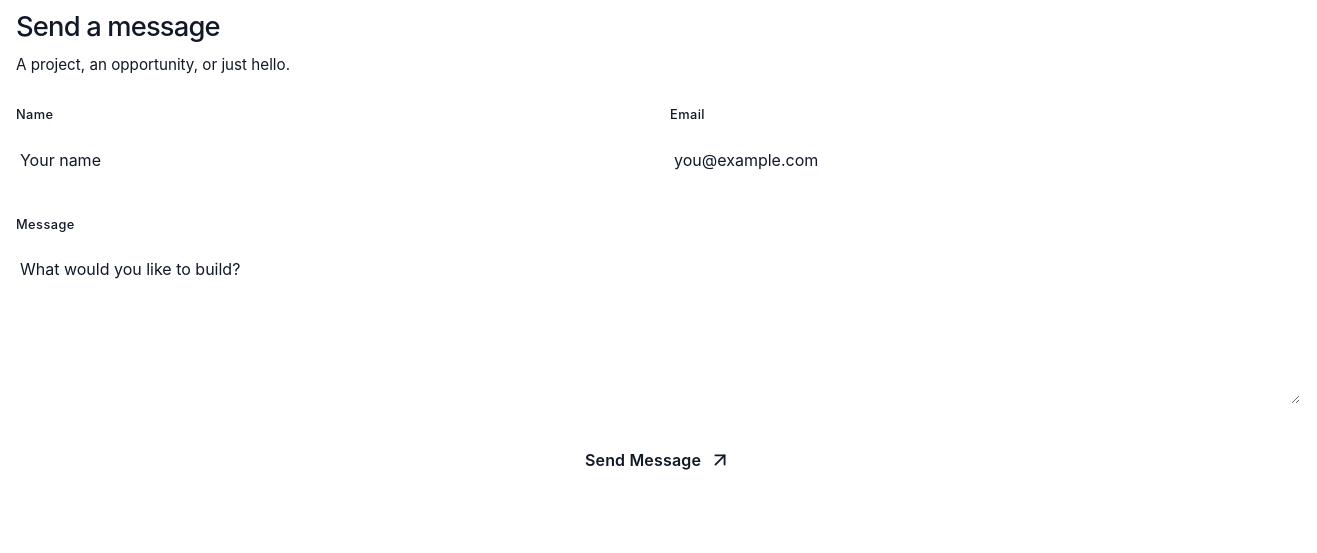
Test: ContactForm › blocks an empty send in its own voice, with the browser's bubbles held back
Click the button "Send Message": (658, 460) [16,432,1300,488]
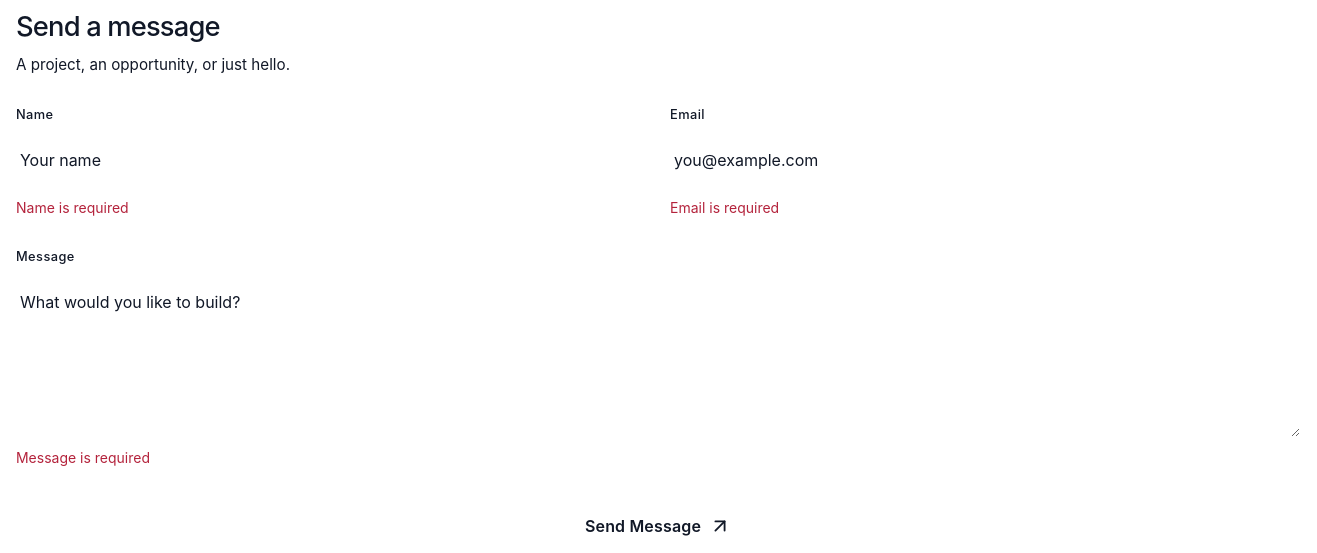
Expected: the messages read "Name is required", "Email is required", "Message is required", in this order, [16,199,129,216]; [670,199,779,216]; [16,449,150,466]
